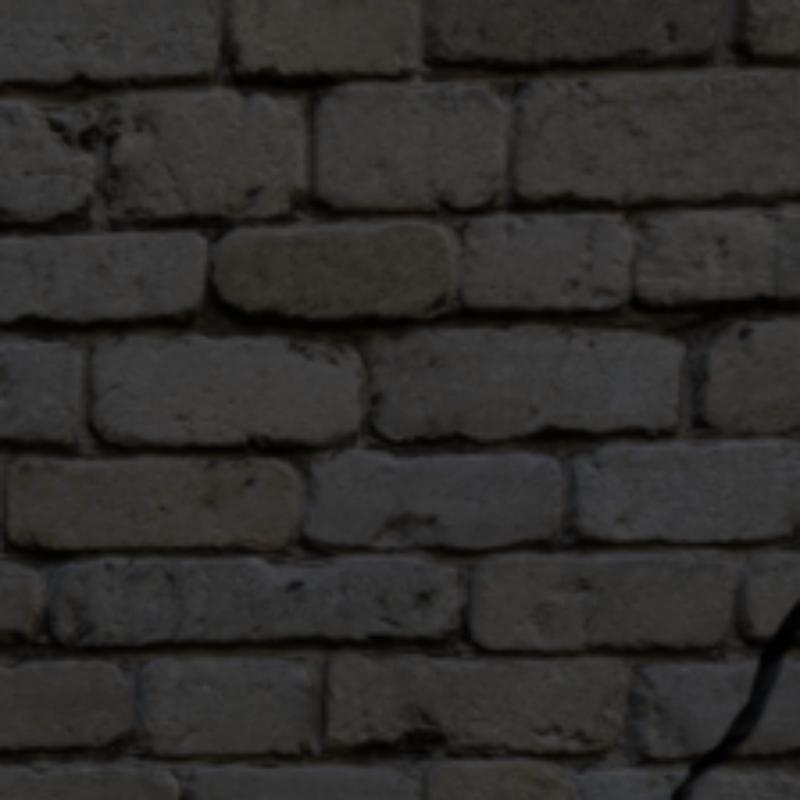pothole: (671, 600, 796, 796)
